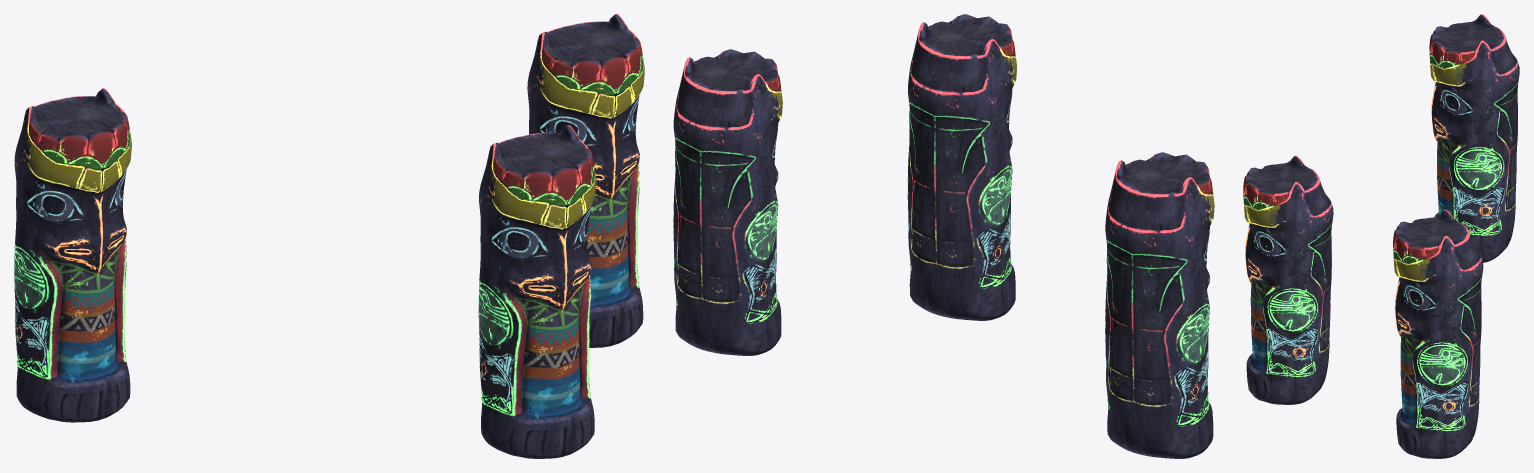
The model's file is Totem.gltf.
3 renders of one model, left to right at view 1: azimuth 30°, elevation 25°; view 2: azimuth 150°, elevation 25°; view 3: azimuth 270°, elevation 25°, orthographic. The views are drawn at different scales.
Parts seen in each view (by area): view 1: Totem_test_shaders:Totem_Lowpoly:polySurface1, polySurface2, polySurface1; view 2: Totem_test_shaders:Totem_Lowpoly:polySurface1, polySurface1, polySurface2; view 3: polySurface1, Totem_test_shaders:Totem_Lowpoly:polySurface1, polySurface2.
Part boxes in pixels (<box>): Totem_test_shaders:Totem_Lowpoly:polySurface1: <box>478,125,596,458</box>; polySurface2: <box>14,88,131,422</box>; polySurface1: <box>527,14,644,347</box>; Totem_test_shaders:Totem_Lowpoly:polySurface1: <box>907,14,1016,320</box>; polySurface1: <box>673,49,782,355</box>; polySurface2: <box>1105,152,1214,458</box>; polySurface1: <box>1393,209,1483,458</box>; Totem_test_shaders:Totem_Lowpoly:polySurface1: <box>1243,155,1333,404</box>; polySurface2: <box>1429,14,1519,262</box>.
Size of the model in its own units: 0.6346 by 0.3403 by 0.3502.
1 material, 1 textured.
